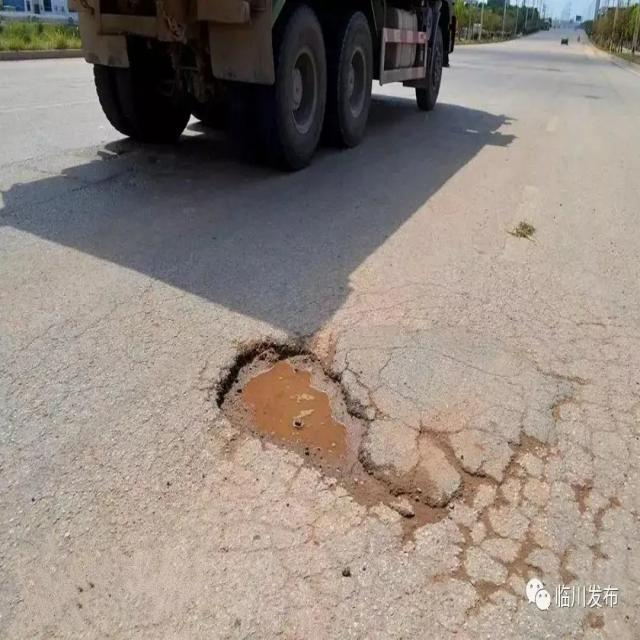Pothole: (213, 337, 502, 547)
